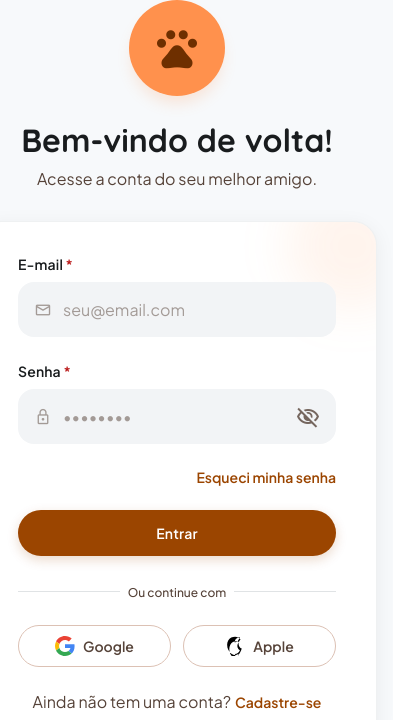
LoginForm Component › should display error for invalid email format
Type "emailinvalido" into the field labelled "E-mail" at (177, 310), box [18, 282, 336, 337]
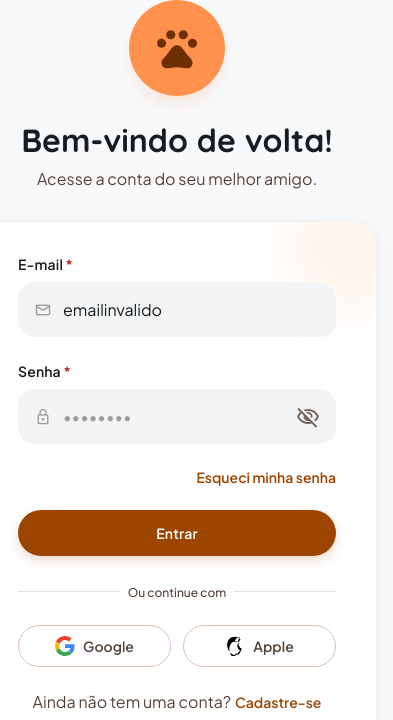
Click the button "Entrar" at (177, 533), box [18, 510, 336, 556]
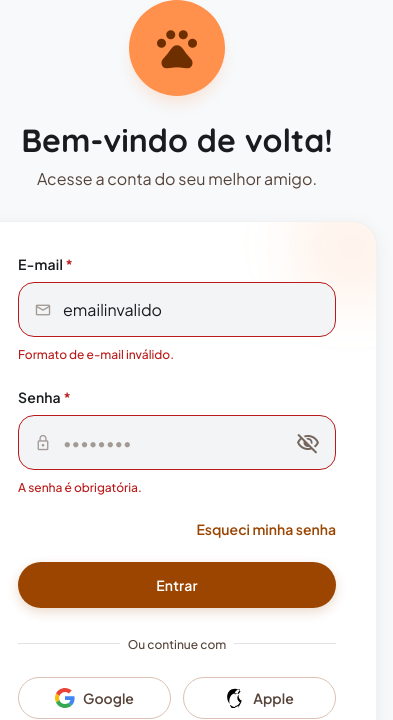
Expected: the text "Formato de e-mail inválido." is shown, [18, 347, 174, 362]
